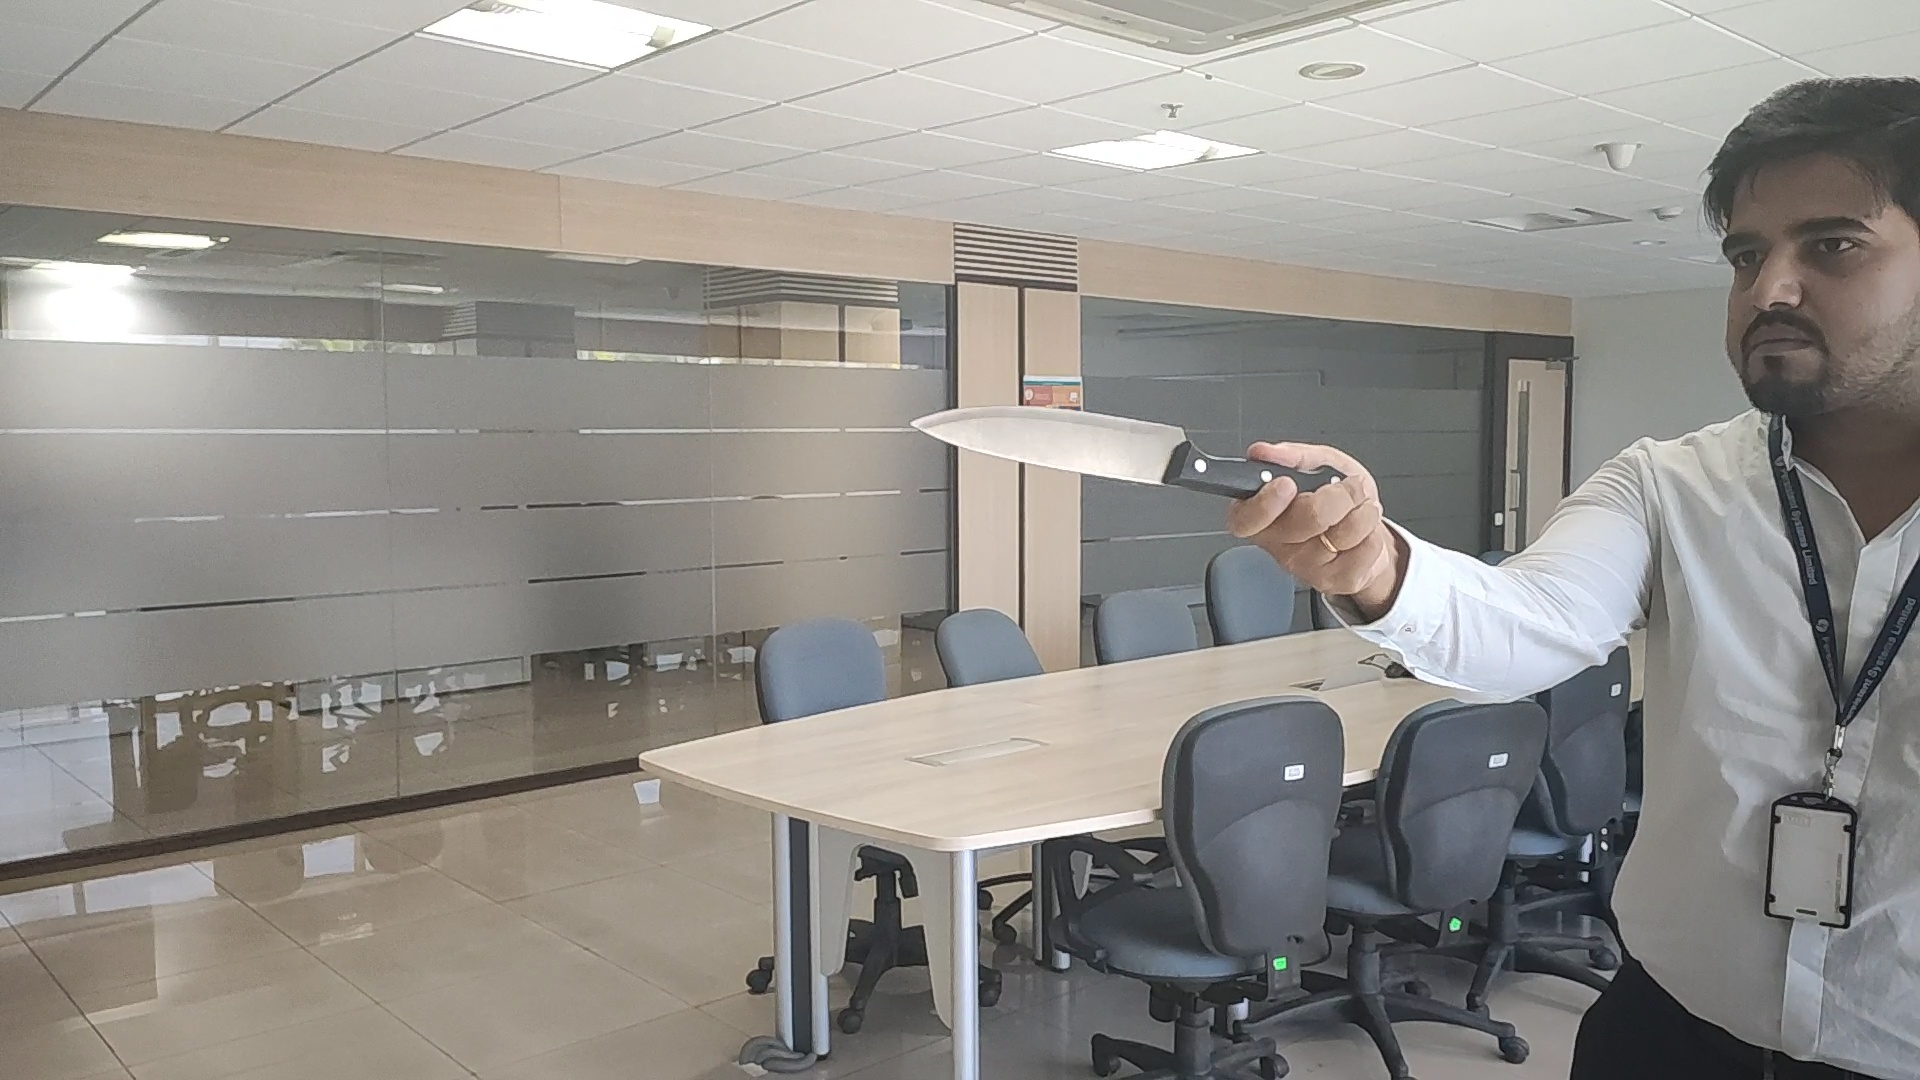knife: (909, 401, 1249, 502)
